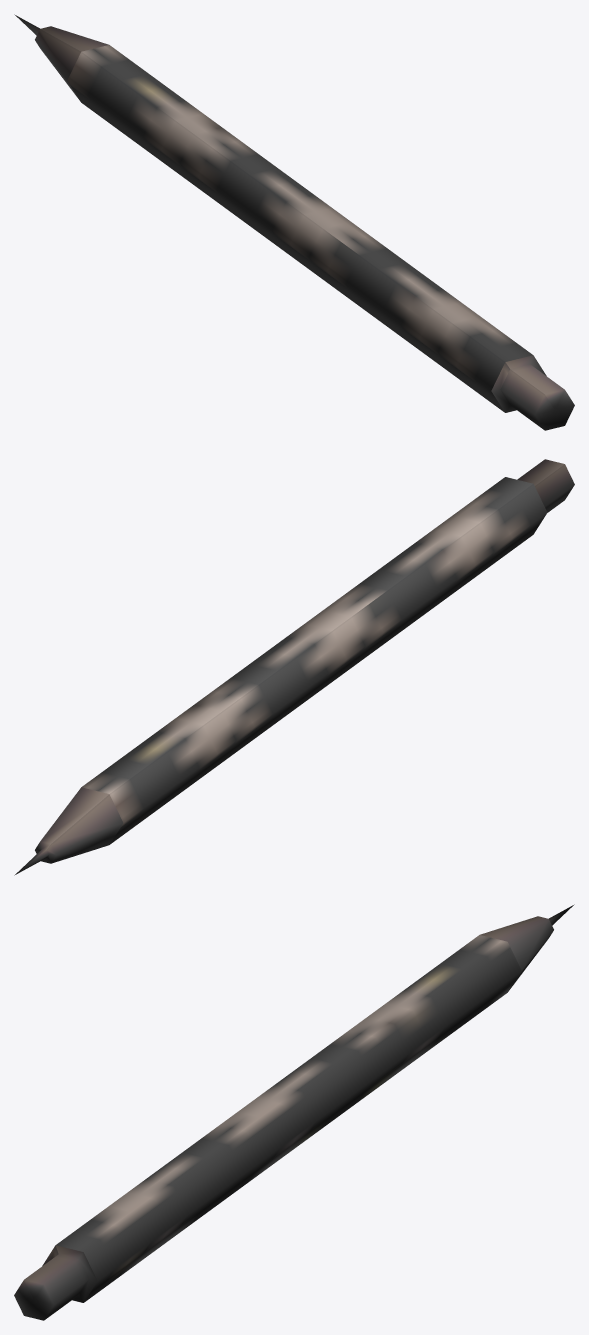
Rendered from pen_typeB3_nig.FBX.
3 views of the same model, one above another, from view 1: azimuth 30°, elevation 25°; view 2: azimuth 150°, elevation 25°; view 3: azimuth 330°, elevation 25° (orthographic).
Parts seen in each view (by area): view 1: penB3_nig; view 2: penB3_nig; view 3: penB3_nig.
Boxes of the visible parts, x1=… form: penB3_nig: x1=14, y1=14, x2=574, y2=430; penB3_nig: x1=14, y1=459, x2=574, y2=875; penB3_nig: x1=14, y1=904, x2=574, y2=1320.
Bounding box in the file's own units: 1.09 × 0.9414 × 18.1.
